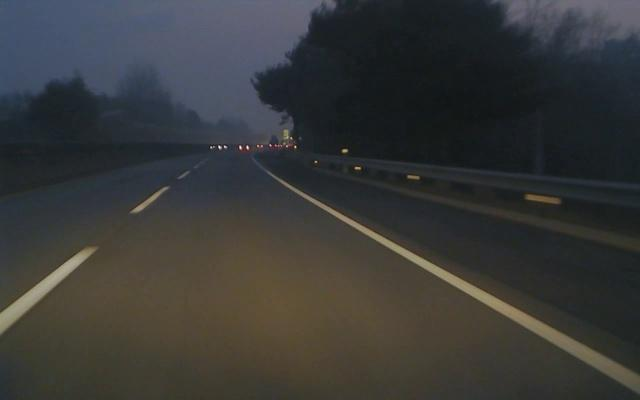lane: (276, 180, 640, 394), (0, 173, 188, 333)
